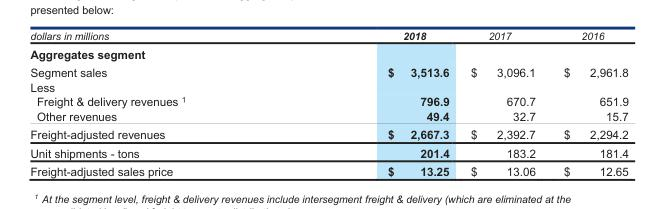table: (29, 29, 627, 177)
table column: (29, 29, 286, 177), (286, 29, 459, 177), (459, 29, 548, 177), (548, 29, 627, 177)
table column header: (29, 29, 627, 44)
table projected row header: (29, 44, 627, 62), (29, 79, 627, 93)
table row: (29, 44, 627, 62), (29, 125, 627, 143), (29, 143, 627, 161), (29, 62, 627, 79), (29, 108, 627, 125), (29, 161, 627, 177), (29, 29, 627, 44), (29, 93, 627, 108), (29, 79, 627, 93)
